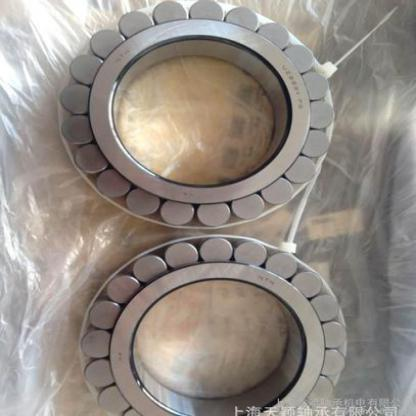FOD: (48, 0, 342, 232), (74, 232, 352, 415)
